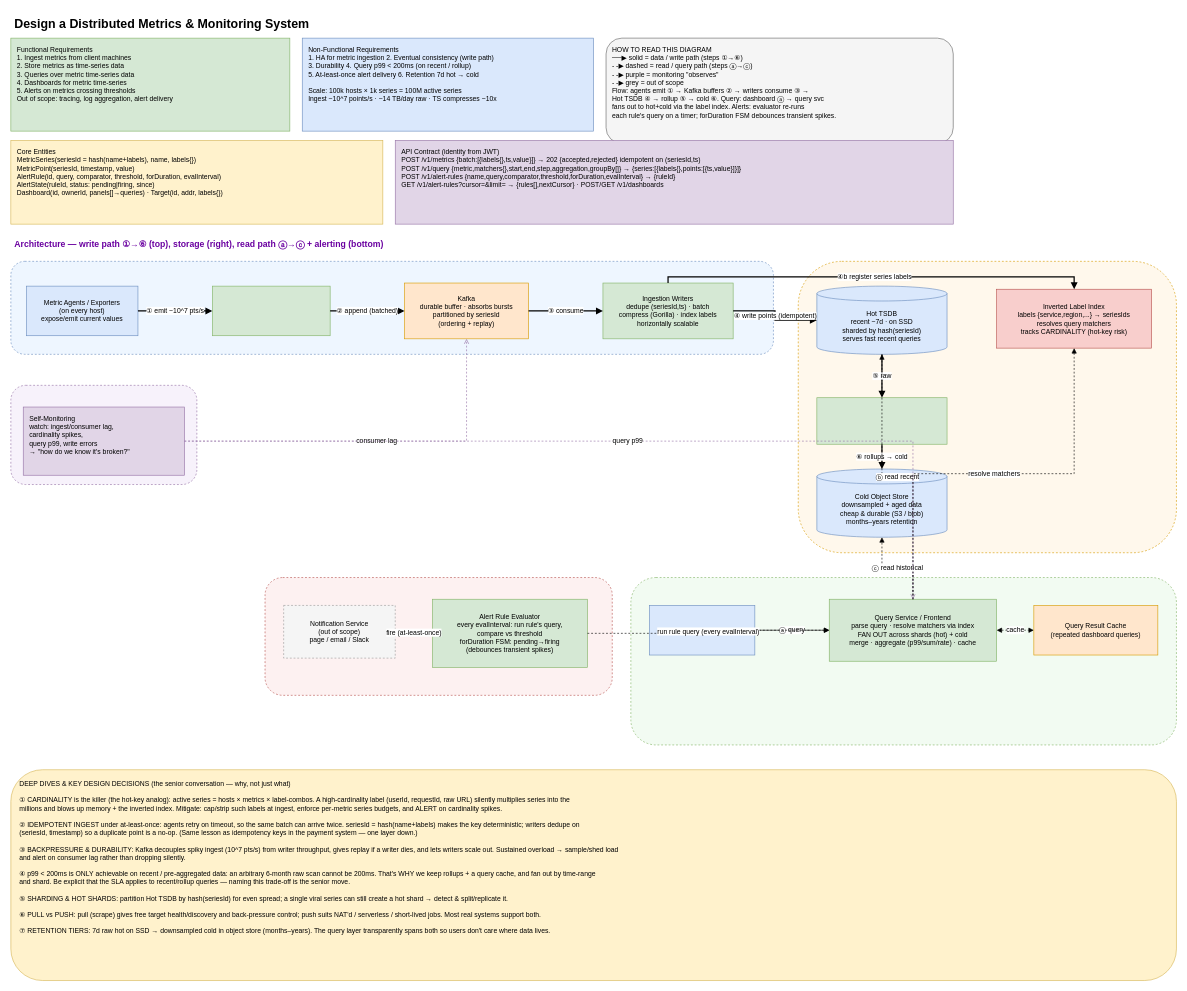
The diagram is 1187 pixels wide and 991 high, and some of its shapes have lost their labels. The box of each missing label's shape, as (x1, y1, x2, y2) in pixels:
Dashboards (Grafana-like) + ad-hoc explorer: (649, 605, 755, 655)
Downsampling / Rollup job raw 10s → 1m → 1h aggregates (shrinks old data ~100x): (816, 397, 947, 444)
Ingest Gateway + LB push API endpoint (or Scraper pulls targets): (212, 286, 330, 336)
OPERABILITY: (10, 385, 197, 485)
STORAGE & RETENTION TIERS: (798, 261, 1176, 553)
① INGEST / WRITE PATH: (10, 261, 773, 354)
③ ALERTING: (264, 577, 612, 695)
ⓐ READ / QUERY PATH: (630, 577, 1176, 745)
